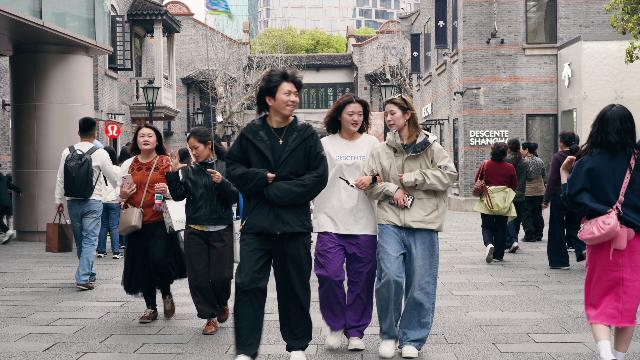person: (224, 65, 329, 360), (362, 92, 458, 359), (558, 102, 640, 360), (310, 94, 382, 351), (165, 127, 241, 335), (114, 124, 188, 324), (54, 117, 121, 291), (542, 130, 586, 269), (474, 141, 518, 263), (506, 138, 534, 253), (97, 146, 123, 260), (520, 141, 547, 242), (118, 146, 132, 166)
